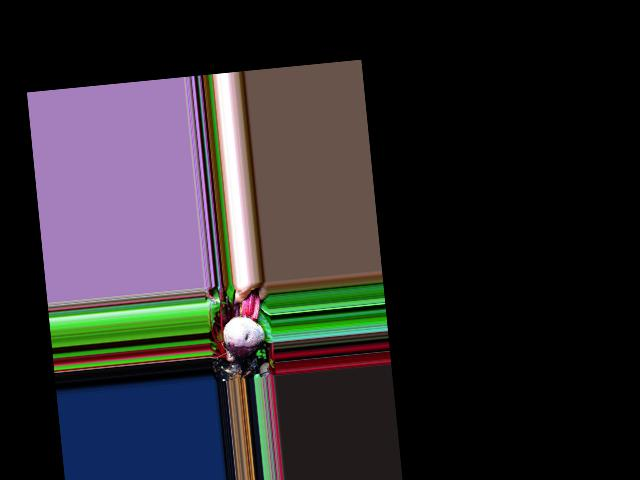beet: (218, 287, 268, 381)
